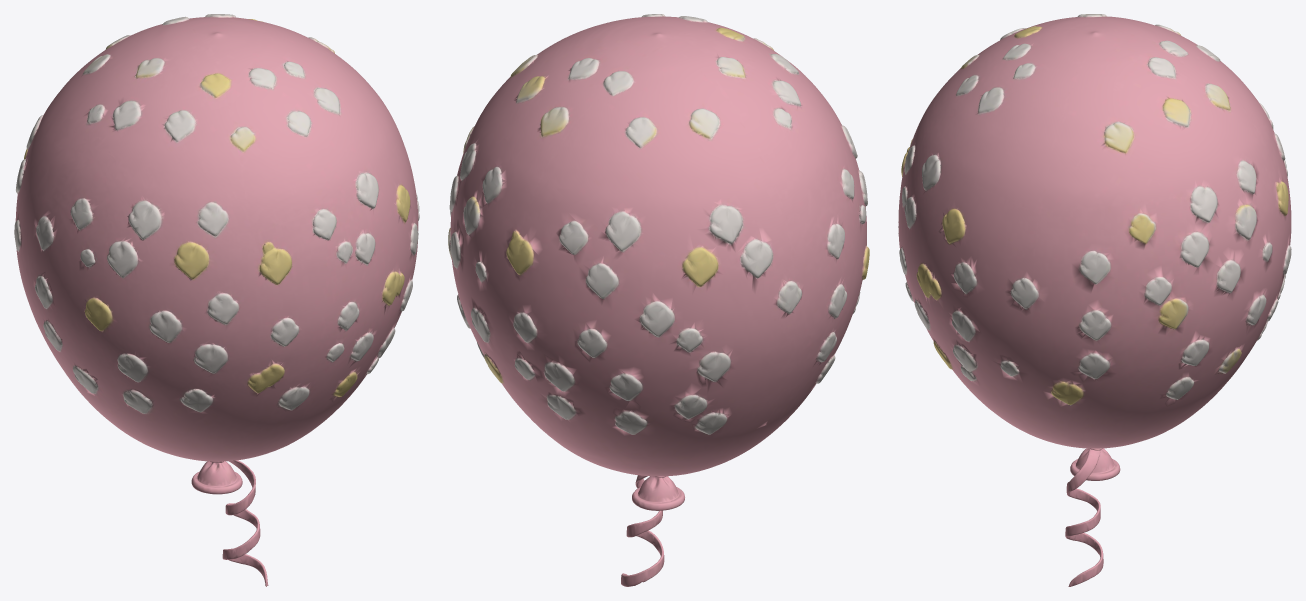
The model's file is balloon.glb.
3 renders of one model, left to right at view 1: azimuth 30°, elevation 25°; view 2: azimuth 150°, elevation 25°; view 3: azimuth 270°, elevation 25°, orthographic. The views are drawn at different scales.
Visible parts, largest first — view 1: tripo_node_fe800d38-c5b3-46a6-a2cb-805f6f7931c9; view 2: tripo_node_fe800d38-c5b3-46a6-a2cb-805f6f7931c9; view 3: tripo_node_fe800d38-c5b3-46a6-a2cb-805f6f7931c9.
Boxes of the visible parts, x1=… form: tripo_node_fe800d38-c5b3-46a6-a2cb-805f6f7931c9: x1=14, y1=14, x2=419, y2=586; tripo_node_fe800d38-c5b3-46a6-a2cb-805f6f7931c9: x1=448, y1=14, x2=869, y2=586; tripo_node_fe800d38-c5b3-46a6-a2cb-805f6f7931c9: x1=898, y1=14, x2=1291, y2=586.
Bounding box in the file's own units: 0.6568 × 0.9846 × 0.6528.
Materials: 1 (1 with a texture image).
